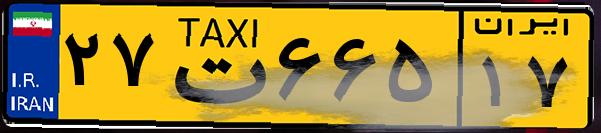1: (475, 38, 525, 113)
2: (57, 26, 110, 100)
5: (385, 28, 445, 110)
6: (270, 28, 330, 110), (330, 28, 385, 110)
7: (525, 38, 570, 115), (110, 28, 158, 98)
ت: (158, 12, 270, 120)
